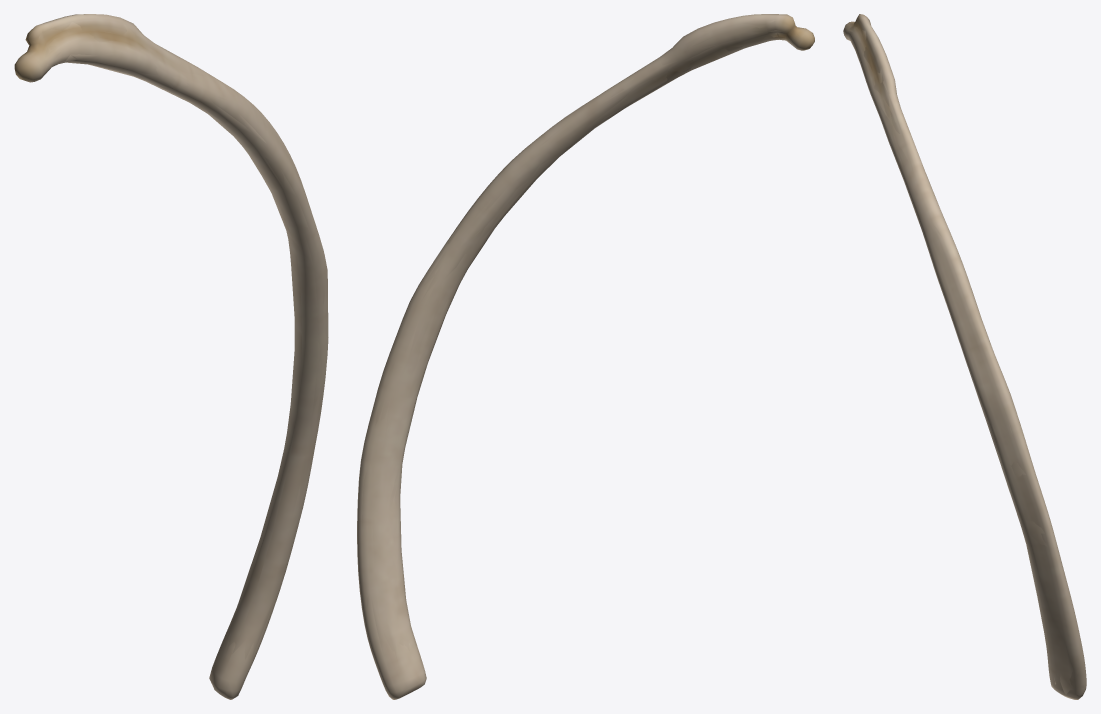
File: Rib L10.fbx
The picture shows the model from 3 angles, left to right: view 1: azimuth 30°, elevation 25°; view 2: azimuth 150°, elevation 25°; view 3: azimuth 270°, elevation 25°; orthographic projection. The views are drawn at different scales.
Visible parts, largest first — view 1: Rib L10 low, Rib L10; view 2: Rib L10 low, Rib L10; view 3: Rib L10, Rib L10 low.
Part boxes in pixels (left/top/right/bottom): Rib L10 low: left=15, top=14, right=328, bottom=696; Rib L10: left=14, top=14, right=328, bottom=699; Rib L10 low: left=361, top=15, right=812, bottom=697; Rib L10: left=357, top=14, right=814, bottom=699; Rib L10: left=843, top=14, right=1086, bottom=699; Rib L10 low: left=844, top=15, right=1084, bottom=695.
Size of the model in its own units: 24.62 by 45.63 by 17.6.
1 material, 1 textured.
